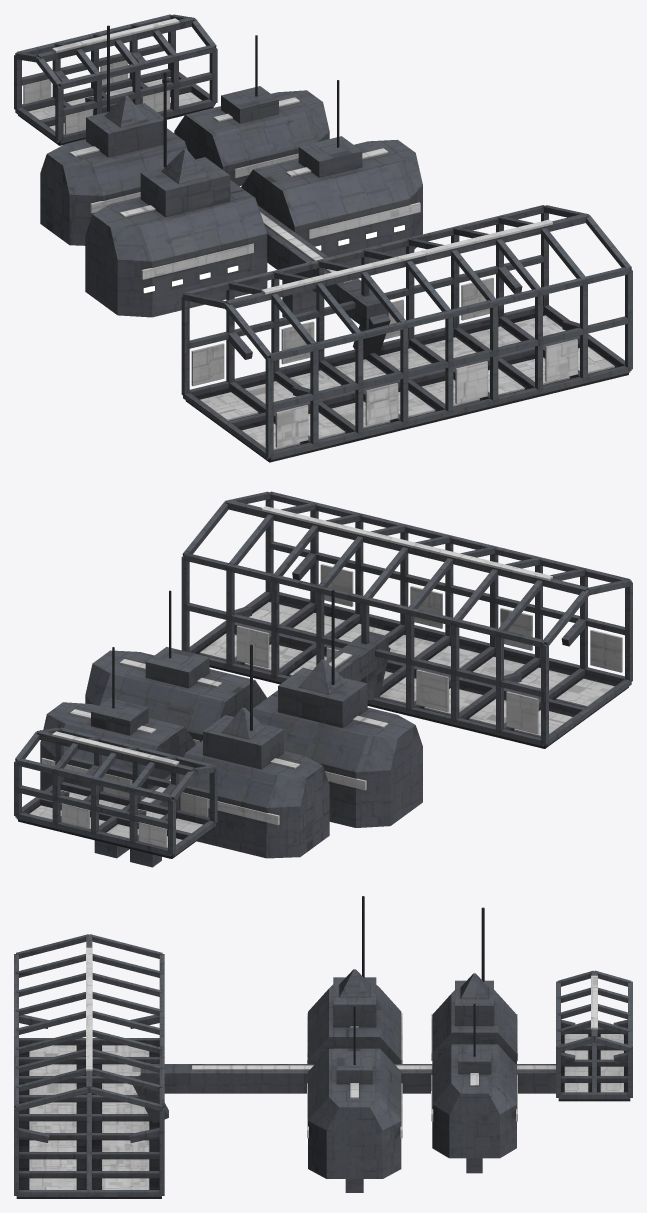
Rendered from rebel-dock-3.glb.
3 renders of one model, top to bottom at view 1: azimuth 30°, elevation 25°; view 2: azimuth 150°, elevation 25°; view 3: azimuth 270°, elevation 25°, orthographic. The views are drawn at different scales.
Parts seen in each view (by area): view 1: DockReb3; view 2: DockReb3; view 3: DockReb3.
Part boxes in pixels (x1=…): DockReb3: x1=14, y1=14, x2=632, y2=462; DockReb3: x1=14, y1=491, x2=632, y2=867; DockReb3: x1=14, y1=896, x2=632, y2=1198.
Bounding box in the file's own units: 2.13 × 1.52 × 3.62.
Materials: 4 (4 with a texture image).
